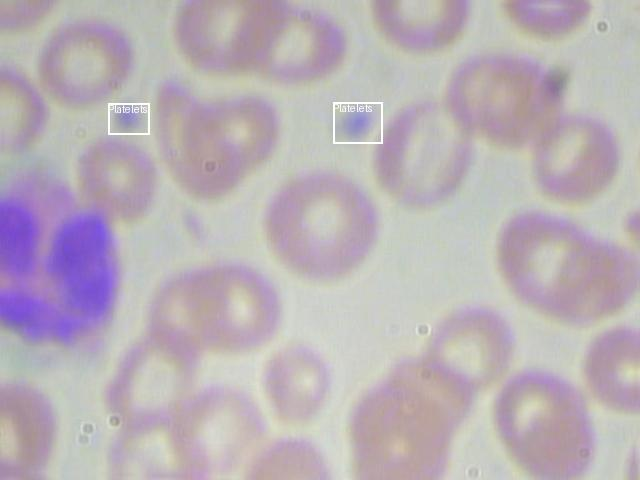Platelets: (333, 102, 382, 143), (108, 103, 149, 134)
